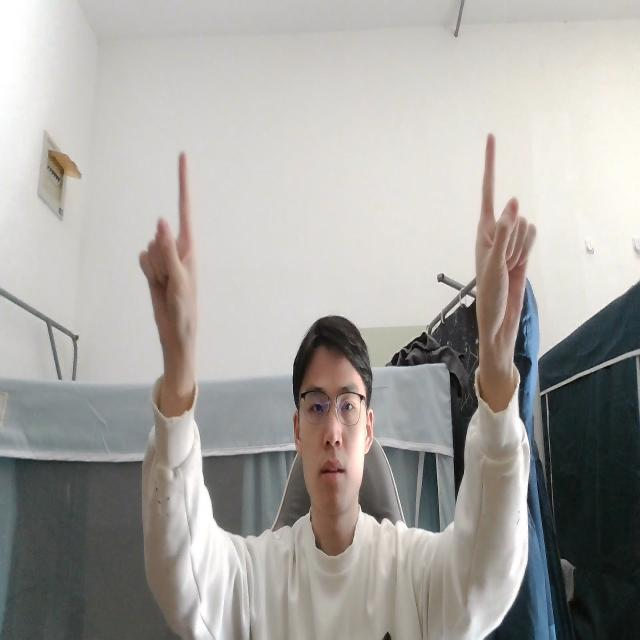one: (472, 122, 536, 385), (138, 143, 200, 383)
